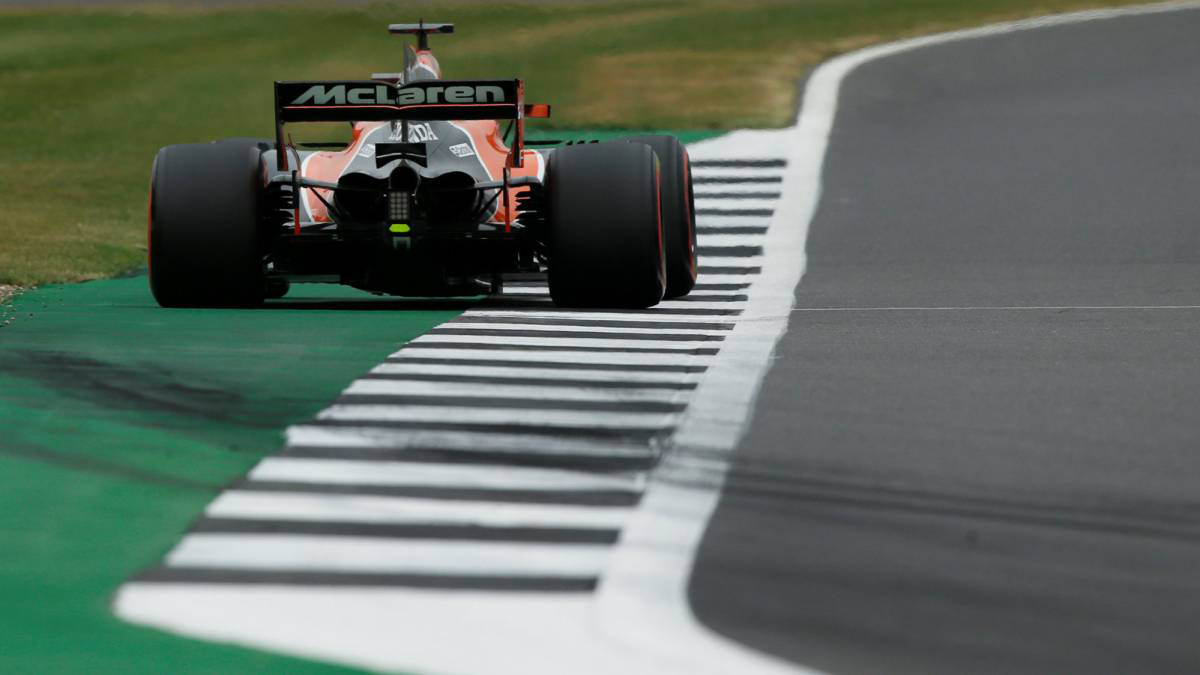F1 Car: (141, 16, 702, 316)
